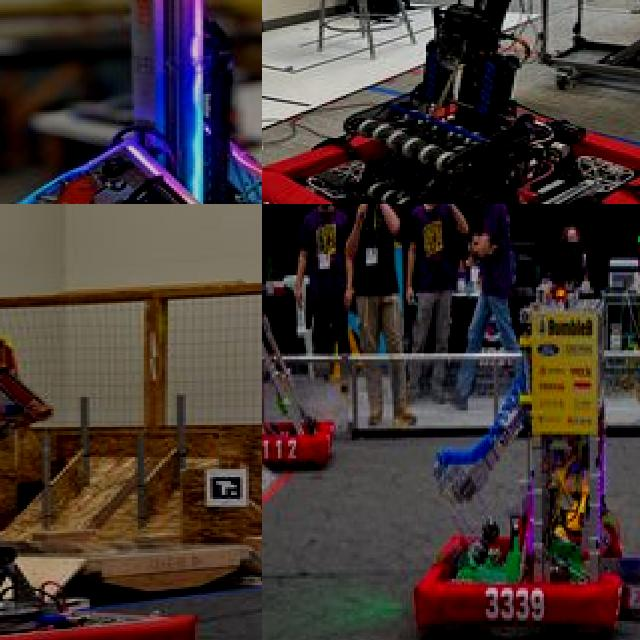FRC-Robots: (393, 225, 640, 640), (0, 274, 251, 640), (281, 0, 640, 204), (0, 0, 262, 204)
